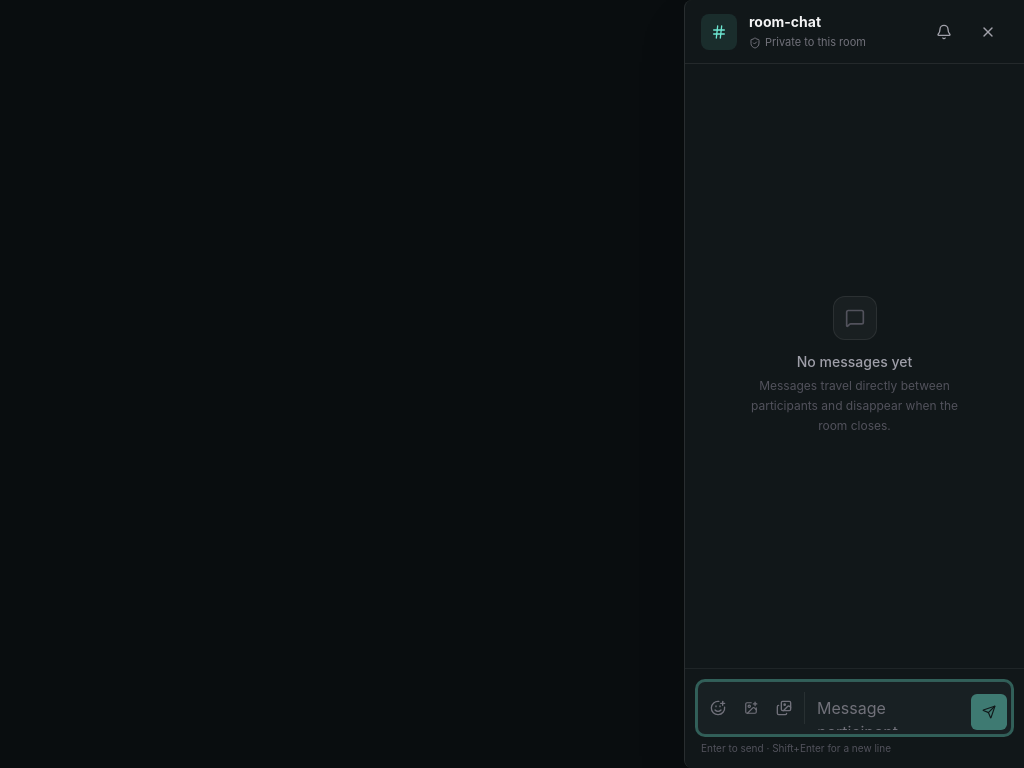
Test: opens the full emoji picker above the chat panel
The image size is (1024, 768).
Click the button named "Add emoji to message" at (718, 708), box [702,692,734,724]
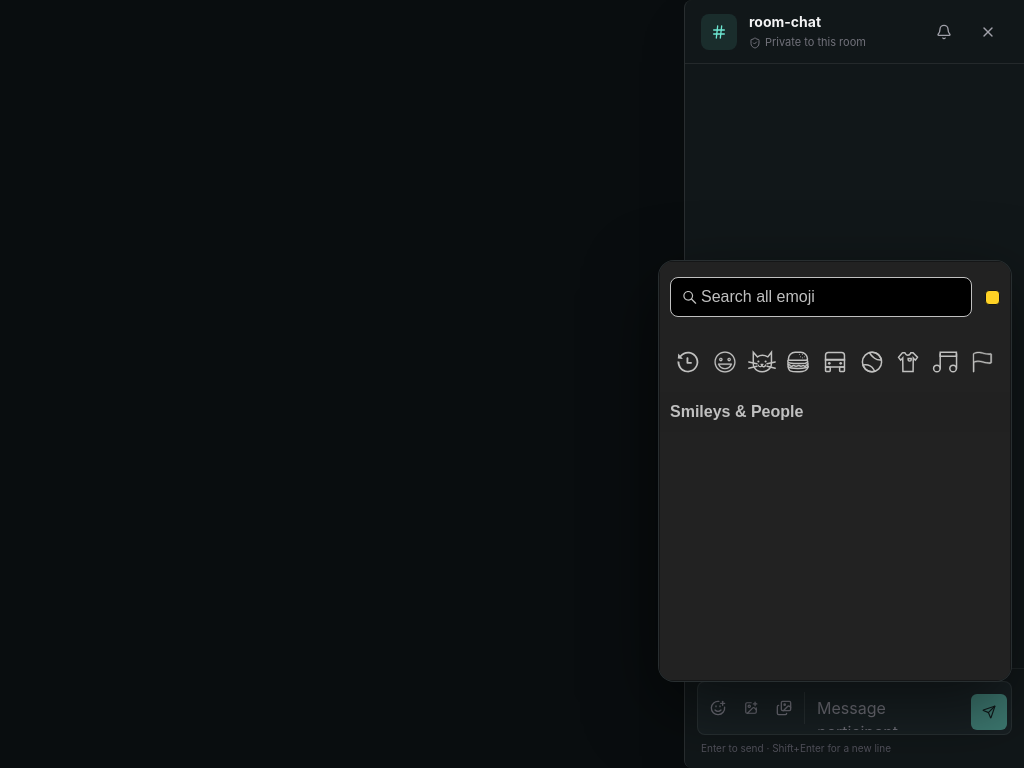
Expected: the field with placeholder "Search all emoji" is shown, [670,277,972,317]
